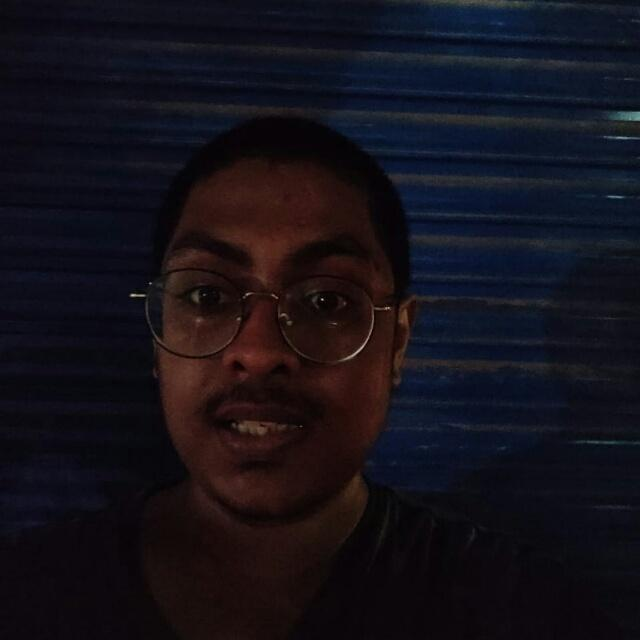angry: (123, 130, 439, 542)
